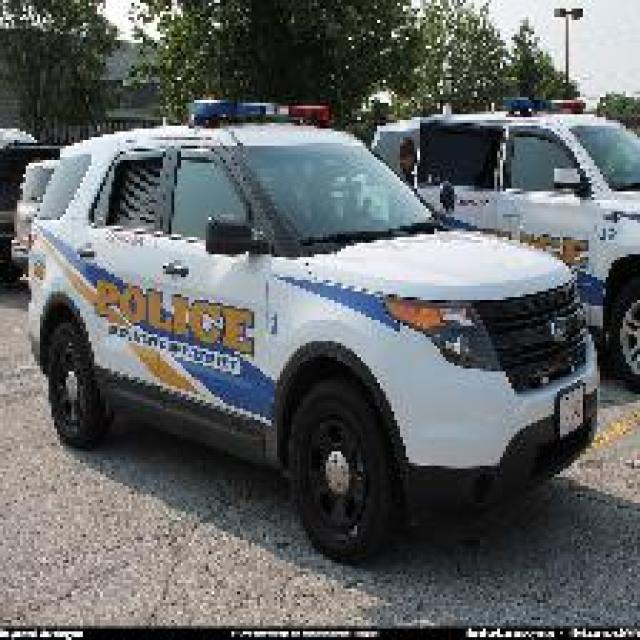emergency: (19, 99, 604, 566), (353, 95, 639, 391)
